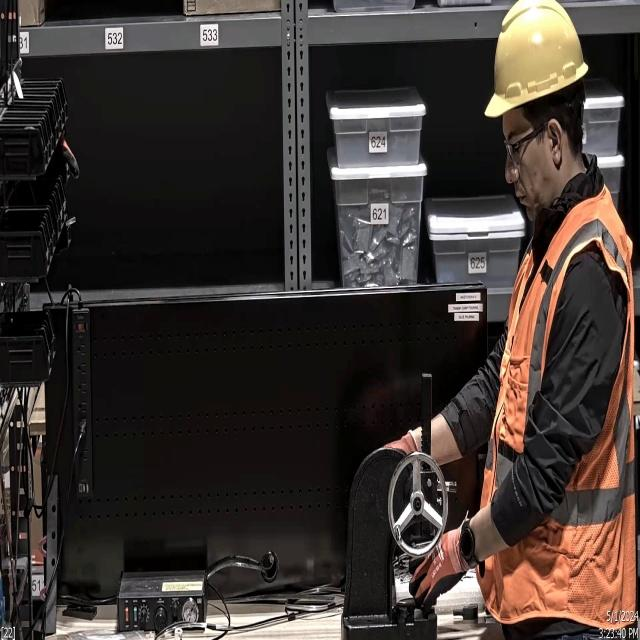construction-gloves: (408, 523, 462, 622)
